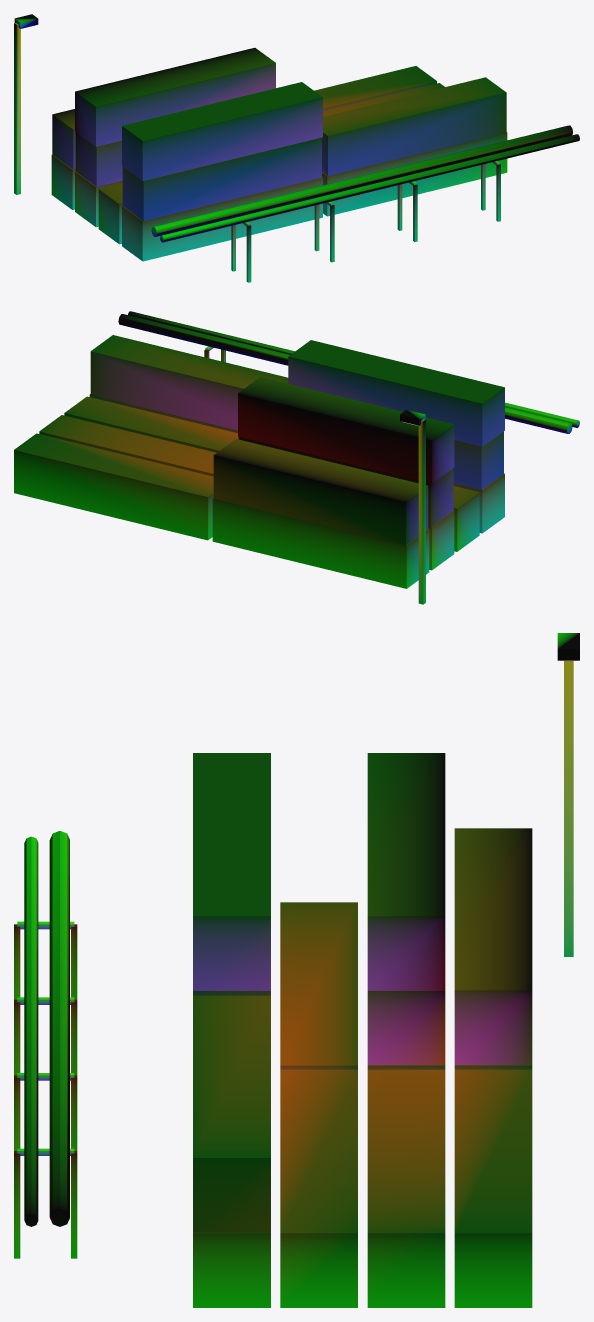
The model's file is Ind_Yard_V9.fbx.
The picture shows the model from 3 angles, top to bottom: view 1: azimuth 30°, elevation 25°; view 2: azimuth 150°, elevation 25°; view 3: azimuth 270°, elevation 25°; orthographic projection. The views are drawn at different scales.
Parts seen in each view (by area): view 1: Ind_Yard_V9_LOD0; view 2: Ind_Yard_V9_LOD0; view 3: Ind_Yard_V9_LOD0.
Part boxes in pixels (box(x1,y1,x2,y2)): Ind_Yard_V9_LOD0: box(14, 14, 579, 282); Ind_Yard_V9_LOD0: box(14, 311, 579, 604); Ind_Yard_V9_LOD0: box(14, 633, 579, 1307).
Size of what is drawn, in the model's own units: 28.35 by 11.2 by 17.85.
